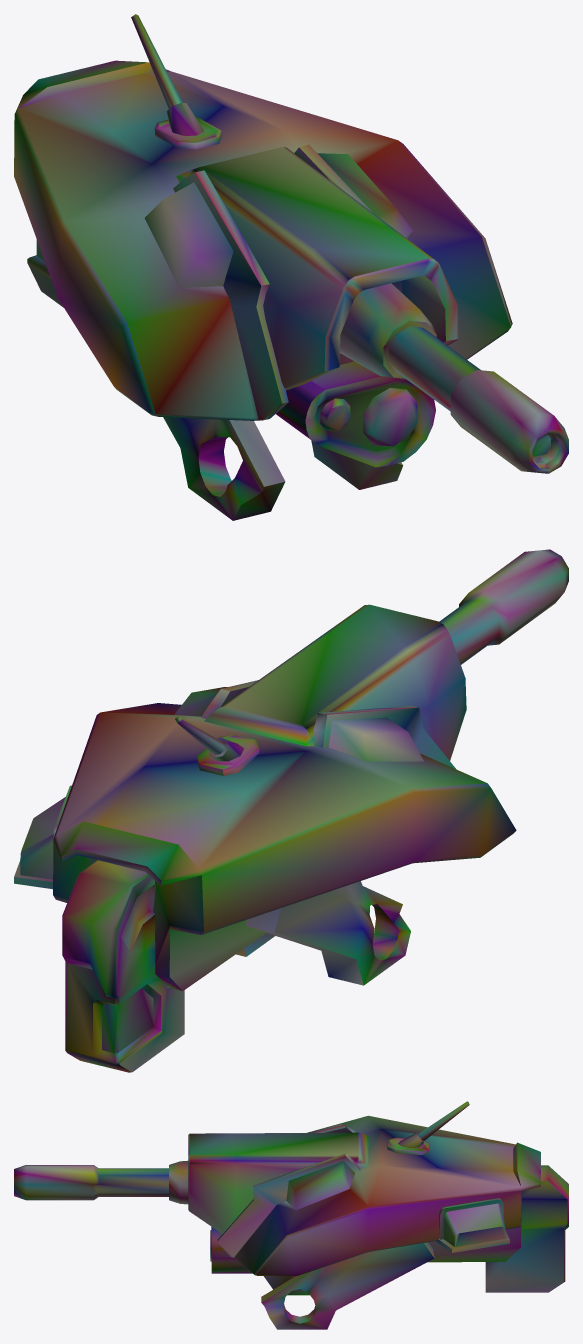
The model's file is ASE_DEP_TurretLight_Gib01.gltf.
3 views of the same model, one above another, from view 1: azimuth 30°, elevation 25°; view 2: azimuth 150°, elevation 25°; view 3: azimuth 270°, elevation 25° (orthographic). The views are drawn at different scales.
Visible parts, largest first — view 1: ASE_DEP_TurretLight_Gib01; view 2: ASE_DEP_TurretLight_Gib01; view 3: ASE_DEP_TurretLight_Gib01.
Boxes of the visible parts, <box> form: ASE_DEP_TurretLight_Gib01: <box>14,14,568,520</box>; ASE_DEP_TurretLight_Gib01: <box>14,549,568,1072</box>; ASE_DEP_TurretLight_Gib01: <box>14,1101,568,1329</box>.
Bounding box in the file's own units: 0.208 × 0.1993 × 0.4921.
